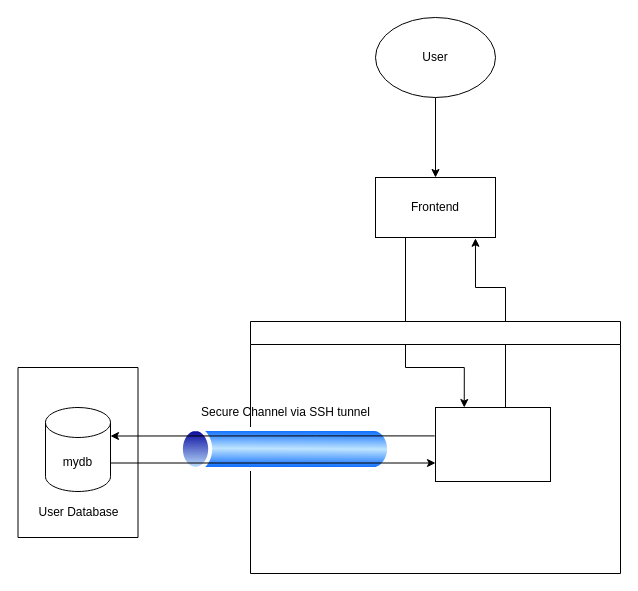
Some shapes in this 638 by 591 pixel diagram are drawn without their labels. The box of each missing label's shape, as (x1, y1, x2, y2) in pixels:
Backend: (250, 320, 620, 574)
Python Flask: (434, 406, 550, 482)
